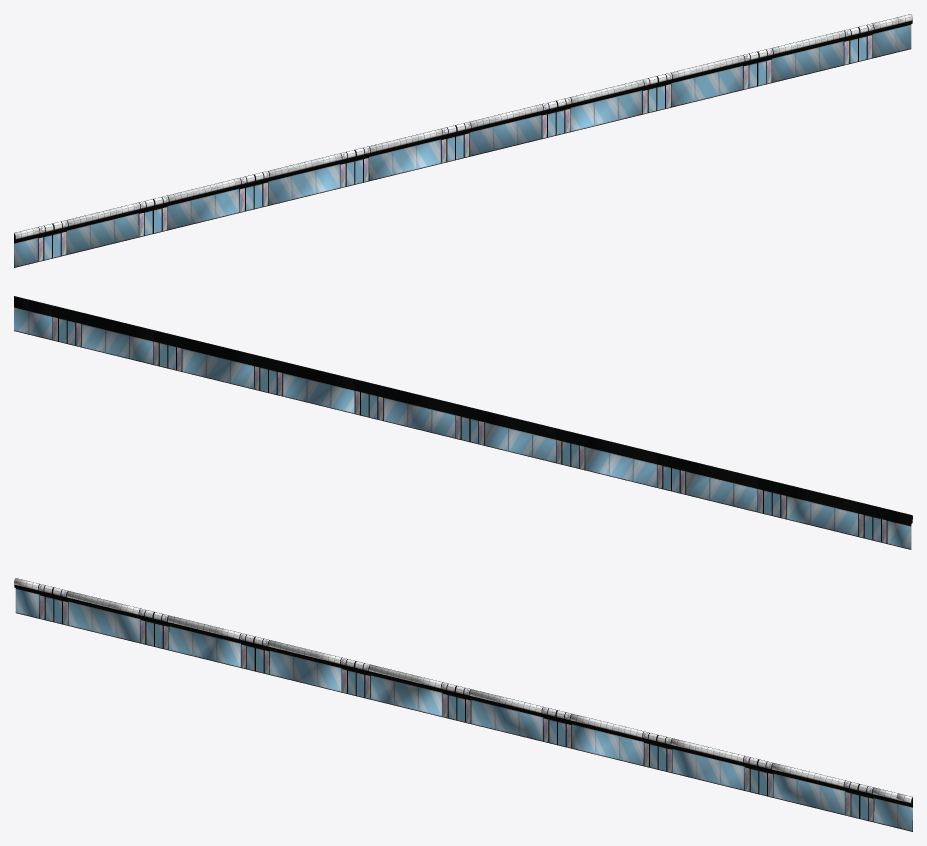
File: façade de quai complète.fbx
The picture shows the model from 3 angles, top to bottom: view 1: azimuth 30°, elevation 25°; view 2: azimuth 150°, elevation 25°; view 3: azimuth 330°, elevation 25°; orthographic projection.
Parts seen in each view (by area): view 1: façade porte.008; view 2: façade porte.008; view 3: façade porte.008.
Part boxes in pixels (x1=…): façade porte.008: x1=14, y1=14, x2=912, y2=267; façade porte.008: x1=14, y1=296, x2=912, y2=549; façade porte.008: x1=14, y1=578, x2=912, y2=831.
Size of the model in its own units: 14060 by 522 by 48.96.
